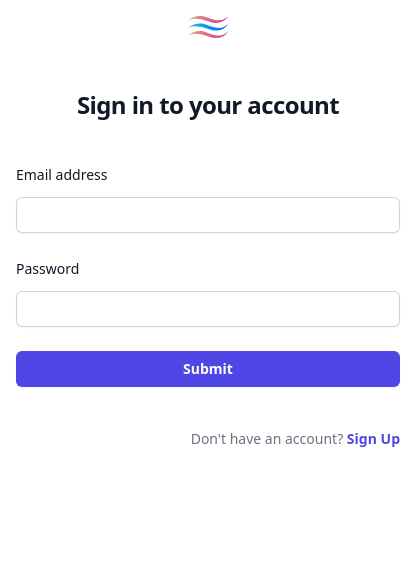
Test: Sign in toggle button on click
This screenshot has width=417, height=562.
Click the button "Sign Up". click: (373,439)
box: [347,427,400,451]
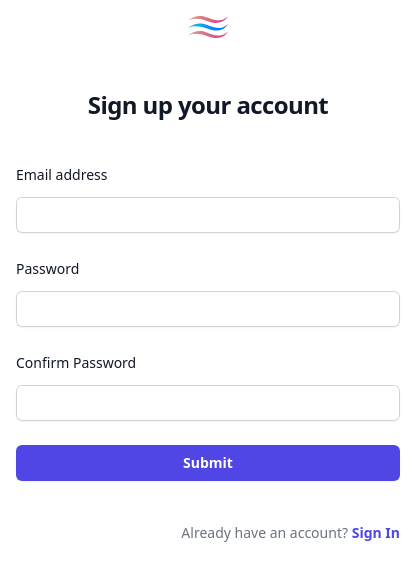
Expected: the heading "Sign up your account" is shown, [88,88,328,121]
Expected: the button "Sign In" is shown
Click the button "Sign In". click: (376,533)
box: [352,521,400,545]
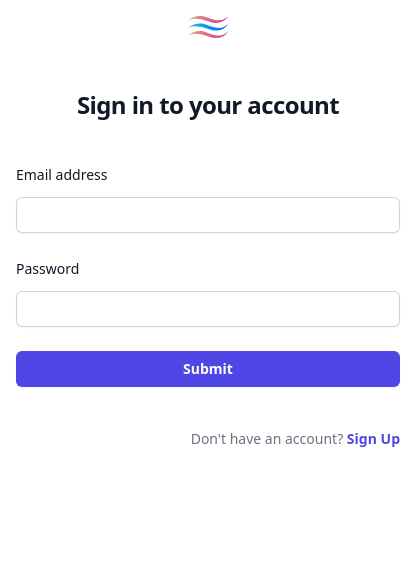
Expected: the heading "Sign in to your account" is shown, [77,88,339,121]
